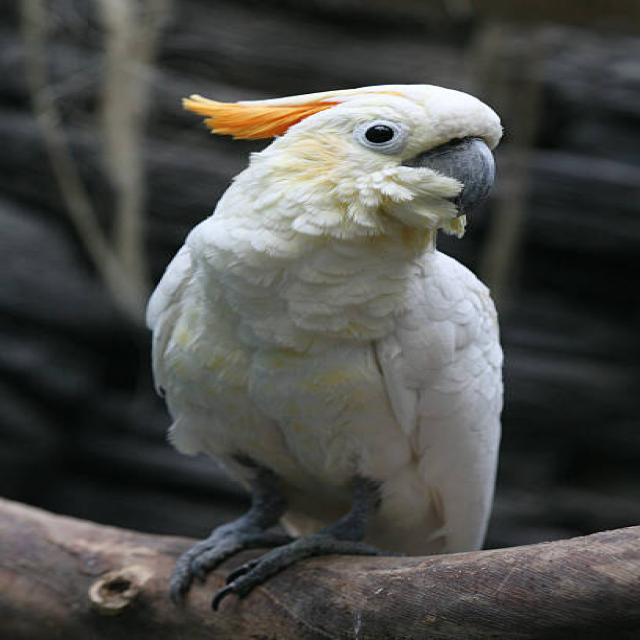Kakatua Putih: (39, 45, 569, 640)
